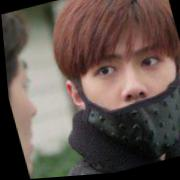NONE: (4, 44, 53, 177)
WRONG: (69, 22, 180, 160)
